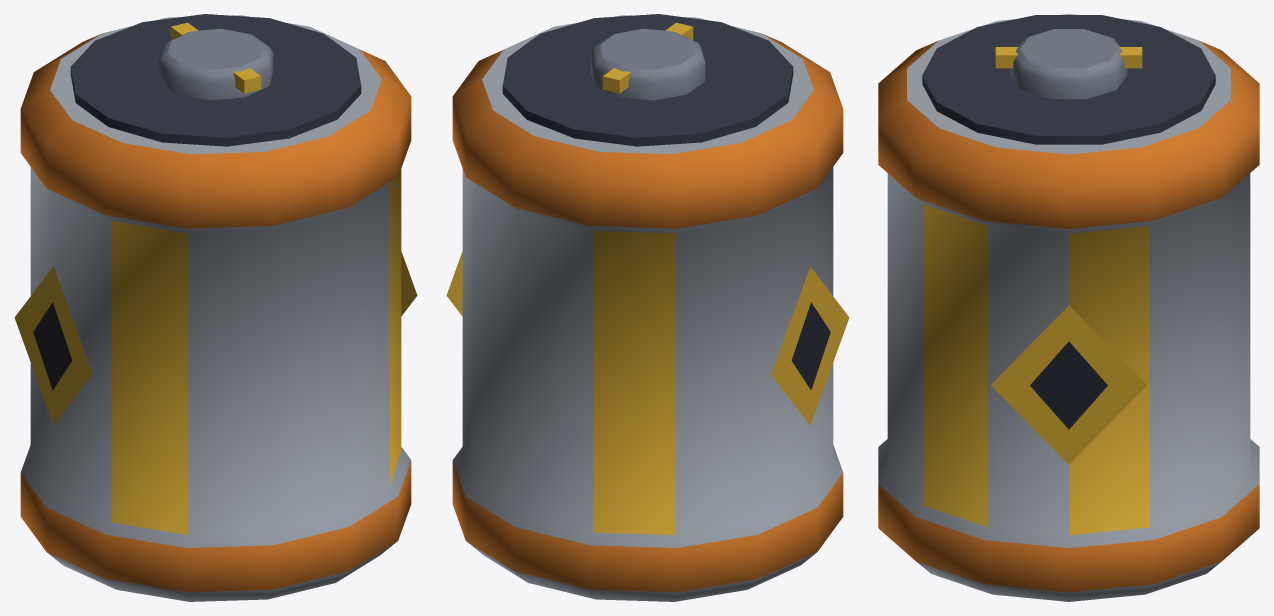
File: space-prop2.glb
3 views of the same model, side by side, from view 1: azimuth 30°, elevation 25°; view 2: azimuth 150°, elevation 25°; view 3: azimuth 270°, elevation 25° (orthographic).
Parts seen in each view (by area): view 1: space-prop2; view 2: space-prop2; view 3: space-prop2.
Boxes of the visible parts, box(x1,y1,x2,y2) form: space-prop2: box(14, 14, 417, 601); space-prop2: box(446, 14, 849, 601); space-prop2: box(878, 14, 1259, 601).
Bounding box in the file's own units: 0.8 × 1.08 × 0.7799.
